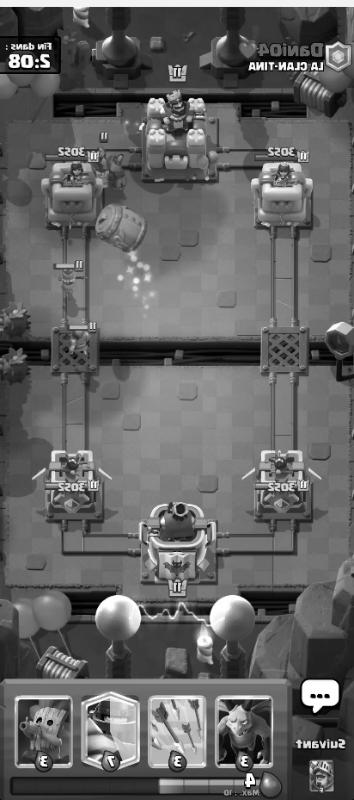valkyrie: (46, 263, 79, 295)
